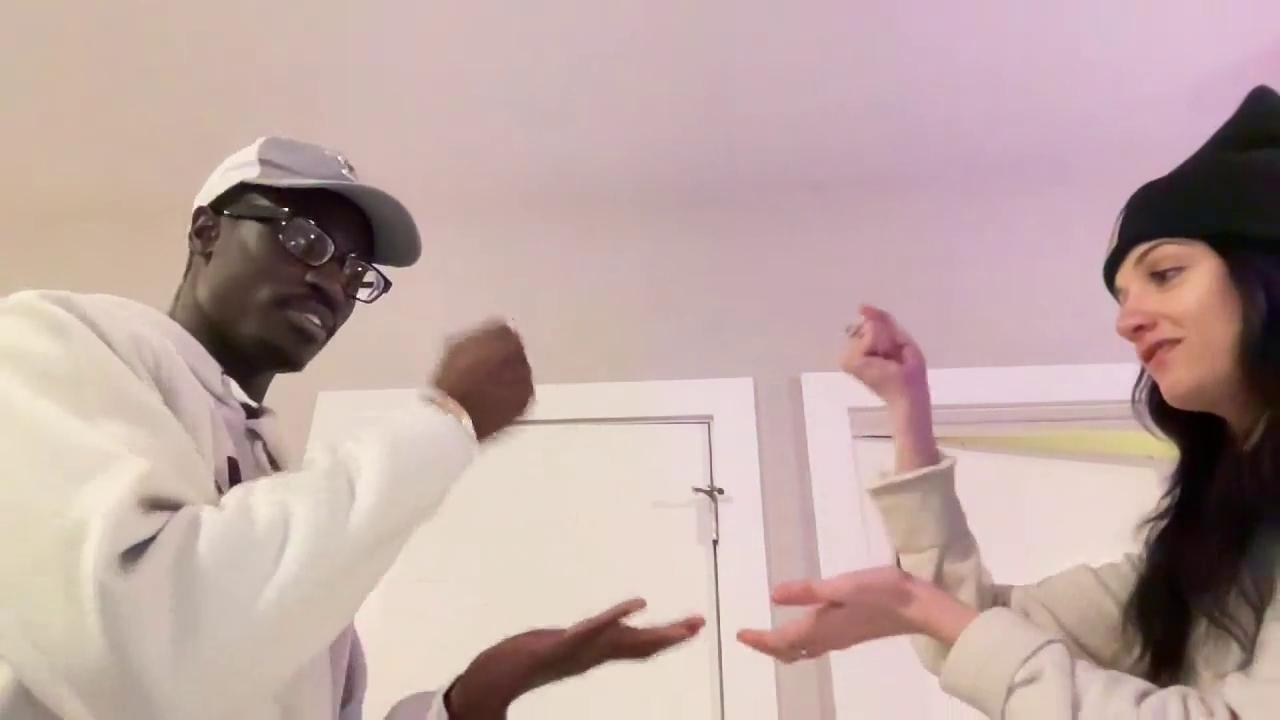Rock: (438, 318, 536, 450), (842, 302, 930, 409)
